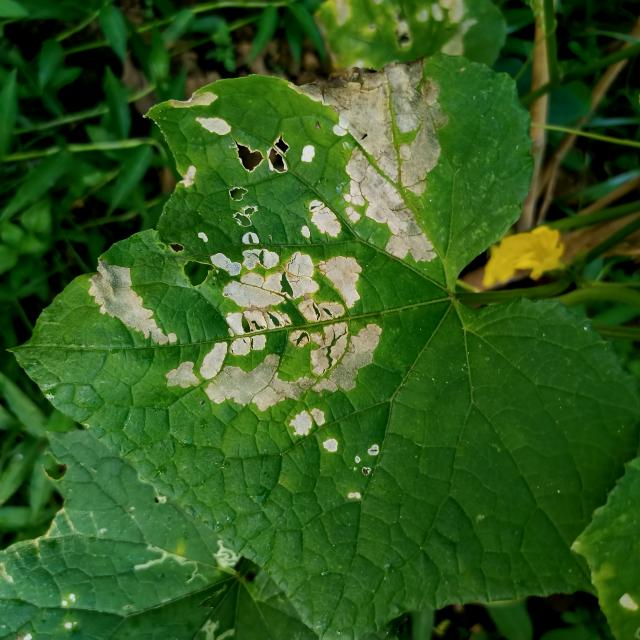disease_cucumber: (75, 246, 388, 501), (160, 47, 446, 269)
